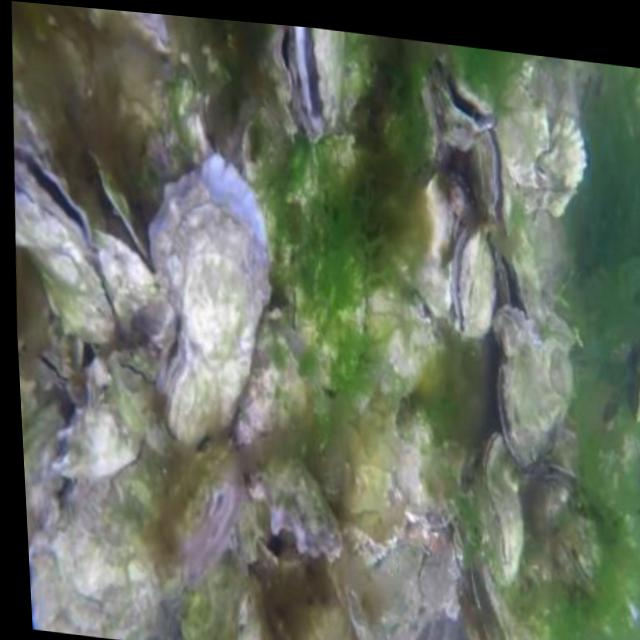Oyster-Closed: (498, 328, 577, 467), (60, 393, 141, 479), (451, 220, 497, 341), (18, 316, 83, 389), (468, 119, 510, 231), (492, 305, 538, 356)
Oyster-Indeterminate: (149, 161, 268, 446), (29, 453, 169, 640), (472, 471, 554, 640), (292, 247, 366, 388), (93, 229, 154, 338), (483, 432, 526, 586), (497, 87, 550, 184), (86, 8, 171, 51), (538, 116, 586, 190), (421, 556, 453, 605), (516, 188, 573, 214)
Oyster-Open: (13, 132, 118, 341), (248, 454, 344, 564), (178, 460, 244, 588), (426, 47, 496, 151), (290, 26, 343, 145), (257, 26, 298, 136)
